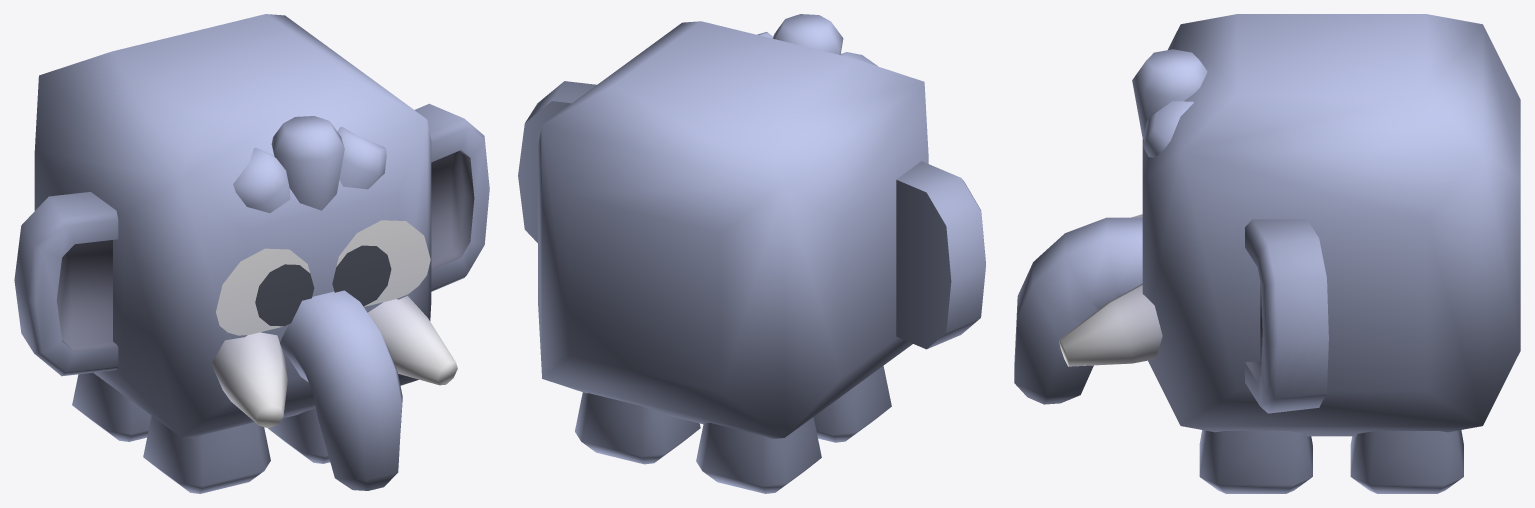
The model's file is cc0-elephant-lod0.glb.
3 views of the same model, side by side, from view 1: azimuth 30°, elevation 25°; view 2: azimuth 150°, elevation 25°; view 3: azimuth 270°, elevation 25° (orthographic). The views are drawn at different scales.
Visible parts, largest first — view 1: part_1, part_2, part_6, part_5, part_4; view 2: part_1, part_5, part_3, part_6; view 3: part_1, part_2, part_3, part_4.
Boxes of the visible parts, <box> form: part_1: <box>14,14,489,437</box>; part_2: <box>280,290,402,490</box>; part_6: <box>143,416,270,493</box>; part_5: <box>72,372,151,441</box>; part_4: <box>268,408,329,463</box>; part_1: <box>518,14,985,438</box>; part_5: <box>696,417,821,493</box>; part_3: <box>575,392,700,464</box>; part_6: <box>813,366,891,442</box>; part_1: <box>1059,14,1520,436</box>; part_2: <box>1014,217,1142,404</box>; part_3: <box>1350,430,1463,493</box>; part_4: <box>1199,430,1312,493</box>.
Size of the model in its own units: 1.88 by 1.43 by 1.68.
1 material, 1 textured.
